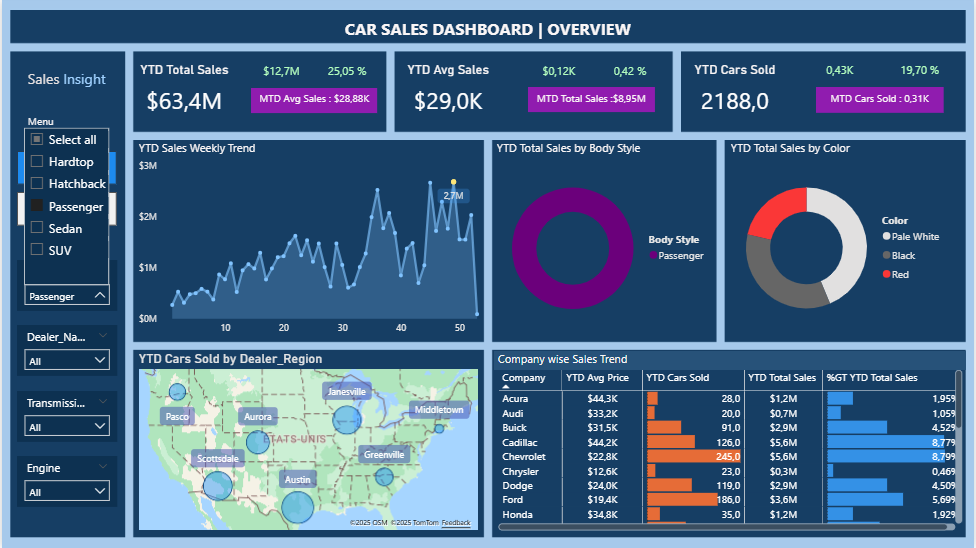

This screenshot's page, from the dashboard's own definition file:
{"tool":"powerbi","page":{"name":"Overview","canvas":[1280,720],"ordinal":0},"visuals":[{"type":"card","title":"YTD Total Sales","fields":{"Values":["car_data.YTD Total Sales"]},"box":[174.5,81.4,130,82.7],"z":0},{"type":"card","fields":{"Values":["car_data.Sales Difference"]},"box":[338.2,80,59.1,29.1],"z":1000},{"type":"card","fields":{"Values":["car_data.YOY Sales Growth"]},"box":[422.7,80,63.6,29.1],"z":2000},{"type":"card","fields":{"Values":["car_data.MTD Avg Price KPI"]},"box":[327.3,115.5,166.4,32.7],"z":3000},{"type":"card","title":"YTD Avg Sales","fields":{"Values":["car_data.YTD Avg Price"]},"box":[528,81,119,83],"z":4000},{"type":"card","fields":{"Values":["car_data.Avg Price Diff"]},"box":[701.4,75.7,62.9,37.1],"z":5000},{"type":"card","fields":{"Values":["car_data.YOY Avg Price Growth"]},"box":[792.9,75.7,65.7,37.1],"z":6000},{"type":"card","fields":{"Values":["car_data.MTD KPI"]},"box":[691.7,115,166.7,33.3],"z":7000},{"type":"card","title":"YTD Cars Sold","fields":{"Values":["car_data.YTD Cars Sold"]},"box":[904,81,121,83],"z":8000},{"type":"card","fields":{"Values":["car_data.Cars Sold Diff"]},"box":[1071.2,76.2,62.5,36.2],"z":9000},{"type":"card","fields":{"Values":["car_data.YOY Car Sold Growth"]},"box":[1176.2,76.2,62.5,36.2],"z":10000},{"type":"card","fields":{"Values":["car_data.MTD Cars Sold KPI"]},"box":[1071.2,115,167.5,33.8],"z":11000},{"type":"areaChart","title":"YTD Sales Weekly Trend","fields":{"Category":["calendar_table.Week"],"Y":["Sum(car_data.Price ($))","car_data.Max Point on Area Chart"]},"box":[174.4,183.7,465.1,265.1],"z":12000},{"type":"donutChart","title":"YTD Total Sales by Body Style","fields":{"Category":["car_data.Body Style"],"Y":["car_data.YTD Total Sales"]},"box":[646.2,183.8,293.8,265],"z":13000},{"type":"donutChart","title":"YTD Total Sales by Color","fields":{"Y":["car_data.YTD Total Sales"],"Category":["car_data.Color"]},"box":[954,184,294,264],"z":14000},{"type":"azureMap","title":"YTD Cars Sold by Dealer_Region","fields":{"Category":["car_data.Dealer_Region"],"Size":["car_data.YTD Cars Sold"]},"box":[175,461.2,456.2,241.2],"z":15000},{"type":"tableEx","title":"Company wise Sales Trend","fields":{"Values":["car_data.Company","car_data.YTD Avg Price","car_data.YTD Cars Sold","car_data.YTD Total Sales1","car_data.YTD Total Sales"]},"box":[647.1,461.4,621.4,241.4],"z":16000},{"type":"textbox","box":[445.7,18.6,388.6,42.9],"z":17000},{"type":"slicer","fields":{"Values":["car_data.Body Style"]},"box":[20.3,342,131.9,66.7],"z":18000},{"type":"slicer","fields":{"Values":["car_data.Dealer_Name"]},"box":[20.3,427.5,131.9,66.7],"z":19000},{"type":"slicer","fields":{"Values":["car_data.Transmission"]},"box":[20.3,514.5,131.9,66.7],"z":20000},{"type":"slicer","fields":{"Values":["car_data.Engine"]},"box":[20.3,600,131.9,66.7],"z":21000},{"type":"textbox","box":[28.3,85,123.3,38.3],"z":21001},{"type":"textbox","box":[28.3,146.7,50,35],"z":21002},{"type":"pageNavigator","box":[20,198.3,131.7,98.3],"z":21003}]}

Visuals, with their boxes in screenshot pixels (x1, y1, x2, y2), scaled from the page's 1280x720 canvas onto the 976x548 screenshot:
"YTD Total Sales" card: 133,62,232,125
card - car_data.Sales Difference: 258,61,303,83
card - car_data.YOY Sales Growth: 322,61,371,83
card - car_data.MTD Avg Price KPI: 250,88,376,113
"YTD Avg Sales" card: 403,62,493,125
card - car_data.Avg Price Diff: 535,58,583,86
card - car_data.YOY Avg Price Growth: 605,58,655,86
card - car_data.MTD KPI: 527,88,655,113
"YTD Cars Sold" card: 689,62,782,125
card - car_data.Cars Sold Diff: 817,58,864,86
card - car_data.YOY Car Sold Growth: 897,58,945,86
card - car_data.MTD Cars Sold KPI: 817,88,945,113
"YTD Sales Weekly Trend" areaChart: 133,140,488,342
"YTD Total Sales by Body Style" donutChart: 493,140,717,342
"YTD Total Sales by Color" donutChart: 727,140,952,341
"YTD Cars Sold by Dealer_Region" azureMap: 133,351,481,535
"Company wise Sales Trend" tableEx: 493,351,967,535
textbox: 340,14,636,47
slicer - car_data.Body Style: 15,260,116,311
slicer - car_data.Dealer_Name: 15,325,116,376
slicer - car_data.Transmission: 15,392,116,442
slicer - car_data.Engine: 15,457,116,507
textbox: 22,65,116,94
textbox: 22,112,60,138
pageNavigator: 15,151,116,226
